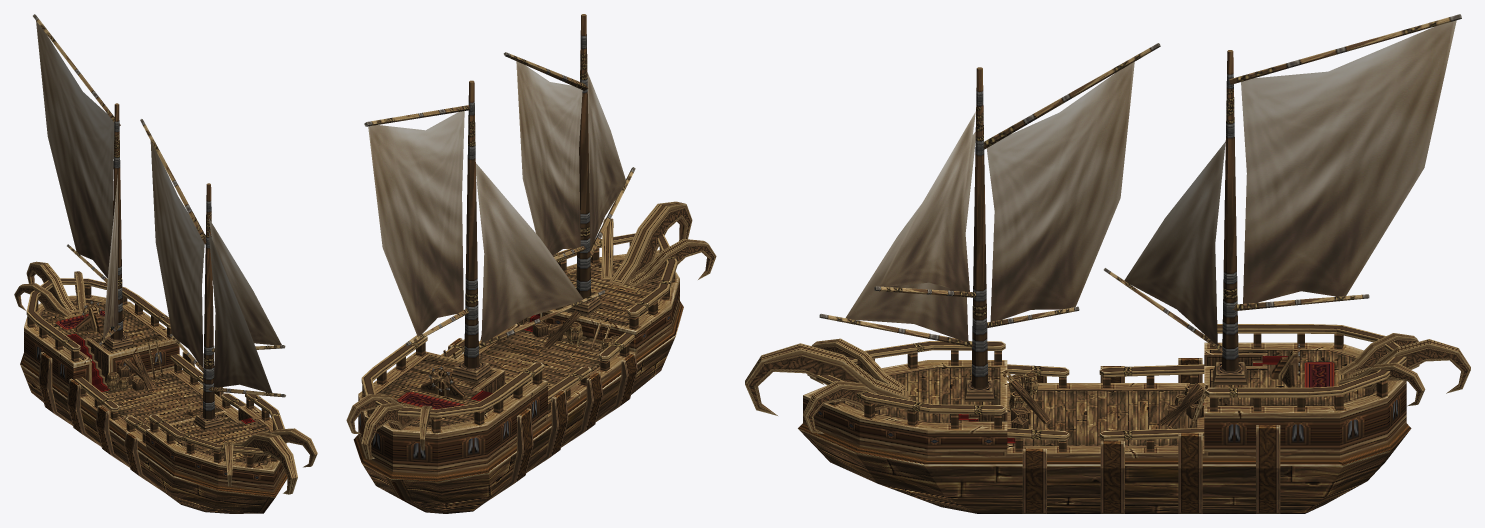
Rendered from FantasyBoat.obj.
The picture shows the model from 3 angles, left to right: view 1: azimuth 30°, elevation 25°; view 2: azimuth 150°, elevation 25°; view 3: azimuth 270°, elevation 25°; orthographic projection. The views are drawn at different scales.
Visible parts, largest first — view 1: ship; view 2: ship; view 3: ship.
Part boxes in pixels (x1,y1,x2,y2): ship: (14,14,317,513); ship: (346,14,716,513); ship: (745,14,1470,513).
Size of the model in its own units: 2.24 by 6.32 by 8.32.
